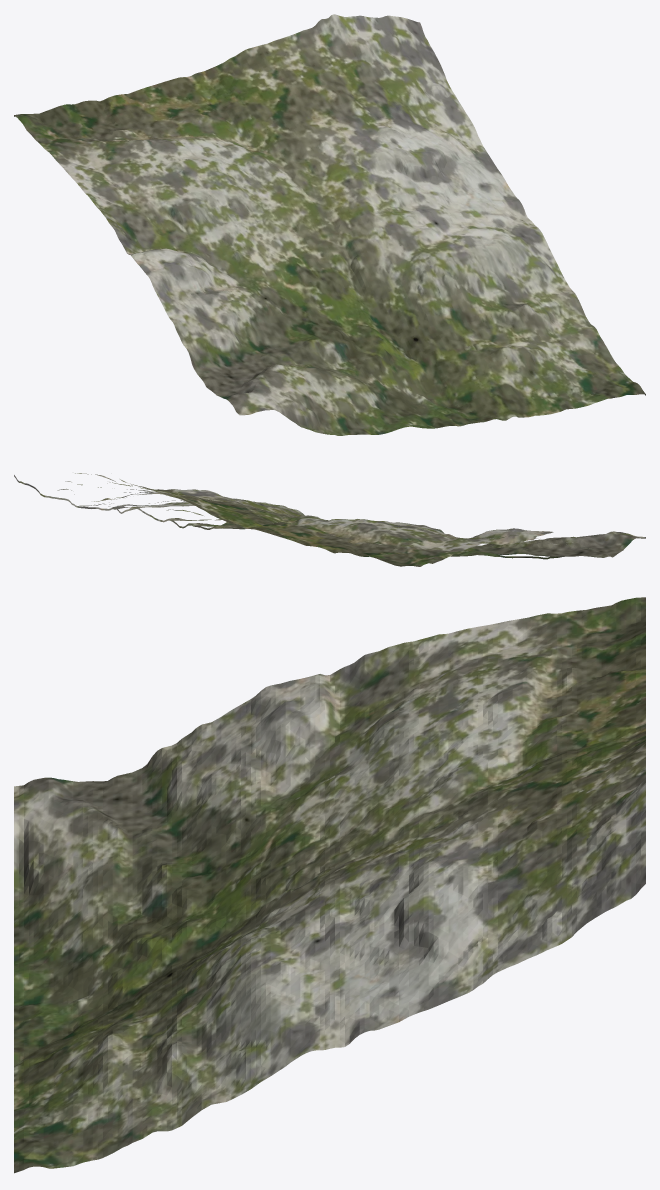
3 renders of one model, top to bottom at view 1: azimuth 30°, elevation 25°; view 2: azimuth 150°, elevation 25°; view 3: azimuth 270°, elevation 25°, orthographic. The views are drawn at different scales.
Size of the model in its own units: 250 by 140 by 241.
Materials: 1 (1 with a texture image).
